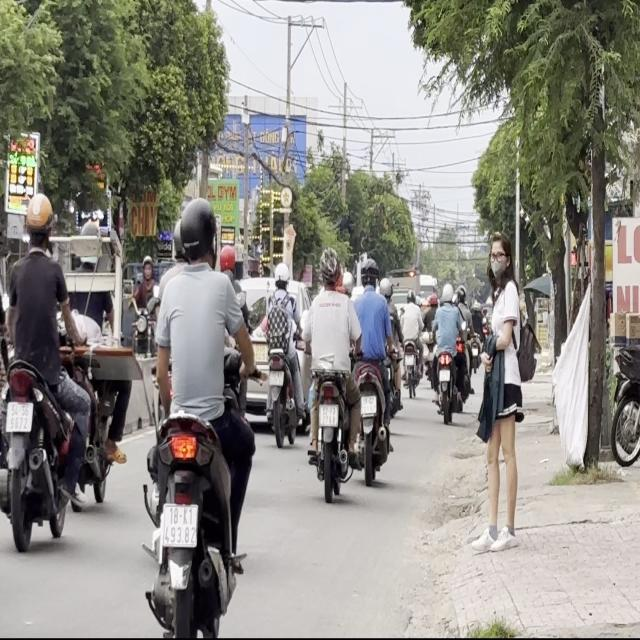helmet: (175, 196, 218, 266), (22, 190, 54, 250), (317, 247, 338, 288), (218, 243, 237, 277), (358, 258, 378, 290), (273, 261, 290, 289)
licenseplate: (138, 191, 258, 633), (0, 190, 89, 552), (301, 245, 360, 498), (350, 254, 397, 482), (262, 258, 304, 446)
nohelmet: (161, 502, 198, 547), (6, 401, 32, 431), (319, 402, 338, 427), (360, 395, 376, 414), (269, 371, 284, 385)
